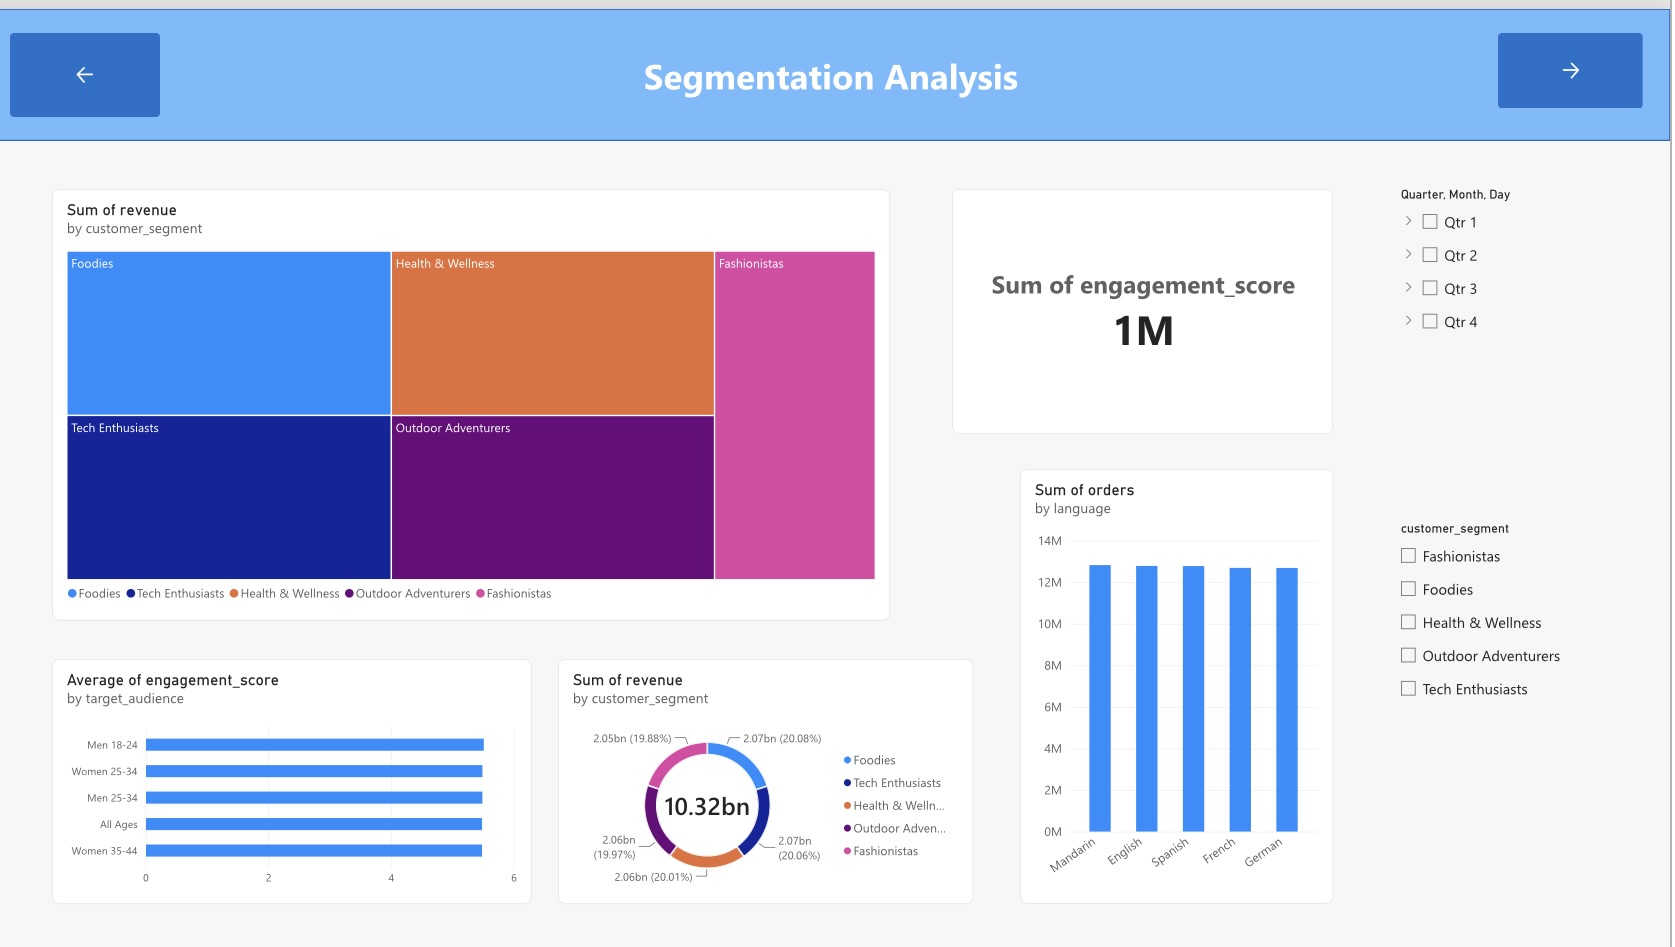

This screenshot's page, from the dashboard's own definition file:
{"tool":"powerbi","page":{"name":"Segmentation ","canvas":[1920,1080],"ordinal":3},"visuals":[{"type":"donutChart","fields":{"Category":["Marketing_Combined 1.customer_segment"],"Y":["Sum(Marketing_Combined 1.revenue)"]},"box":[648.3,743.6,474.8,280.3],"z":0},{"type":"clusteredBarChart","fields":{"Category":["Marketing_Combined 1.target_audience"],"Y":["Avg(Marketing_Combined 1.engagement_score)"]},"box":[68.6,743.6,549.1,280.3],"z":1000},{"type":"clusteredColumnChart","fields":{"Category":["Marketing_Combined 1.language"],"Y":["Sum(Marketing_Combined 1.orders)"]},"box":[1176.4,526.2,358.5,497.6],"z":2000},{"type":"treemap","fields":{"Group":["Marketing_Combined 1.customer_segment"],"Values":["Sum(Marketing_Combined 1.revenue)"]},"box":[68.6,205.9,959,493.8],"z":3000},{"type":"slicer","fields":{"Values":["Marketing_Combined 1.customer_segment"]},"box":[1603.5,587.2,280.3,436.6],"z":4000},{"type":"slicer","fields":{"Values":["Marketing_Combined 1.date.Variation.Date Hierarchy.Quarter","Marketing_Combined 1.date.Variation.Date Hierarchy.Month","Marketing_Combined 1.date.Variation.Date Hierarchy.Day"]},"box":[1603.5,205.9,280.3,415.7],"z":5000},{"type":"cardVisual","fields":{"Data":["Sum(Marketing_Combined 1.engagement_score)"]},"box":[1098.2,205.9,436.6,280.3],"z":6000},{"type":"shape","box":[0,0,1920,150.6],"z":7000},{"type":"actionButton","box":[20.6,27.5,171.6,96.1],"z":7001},{"type":"actionButton","box":[1722.6,27.2,165.7,86.2],"z":7002}]}

Visuals, with their boxes in screenshot pixels (x1, y1, x2, y2), scaled from the page's 1920x1080 canvas onto the 1675x947 screenshot:
donutChart - Marketing_Combined 1.customer_segment x Sum(Marketing_Combined 1.revenue): <region>566, 652, 980, 898</region>
clusteredBarChart - Marketing_Combined 1.target_audience x Avg(Marketing_Combined 1.engagement_score): <region>60, 652, 539, 898</region>
clusteredColumnChart - Marketing_Combined 1.language x Sum(Marketing_Combined 1.orders): <region>1026, 461, 1339, 898</region>
treemap - Marketing_Combined 1.customer_segment x Sum(Marketing_Combined 1.revenue): <region>60, 181, 896, 614</region>
slicer - Marketing_Combined 1.customer_segment: <region>1399, 515, 1643, 898</region>
slicer - Marketing_Combined 1.date.Variation.Date Hierarchy.Quarter x Marketing_Combined 1.date.Variation.Date Hierarchy.Month: <region>1399, 181, 1643, 545</region>
cardVisual - Sum(Marketing_Combined 1.engagement_score): <region>958, 181, 1339, 426</region>
shape: <region>0, 0, 1674, 132</region>
actionButton: <region>18, 24, 168, 108</region>
actionButton: <region>1503, 24, 1647, 99</region>
